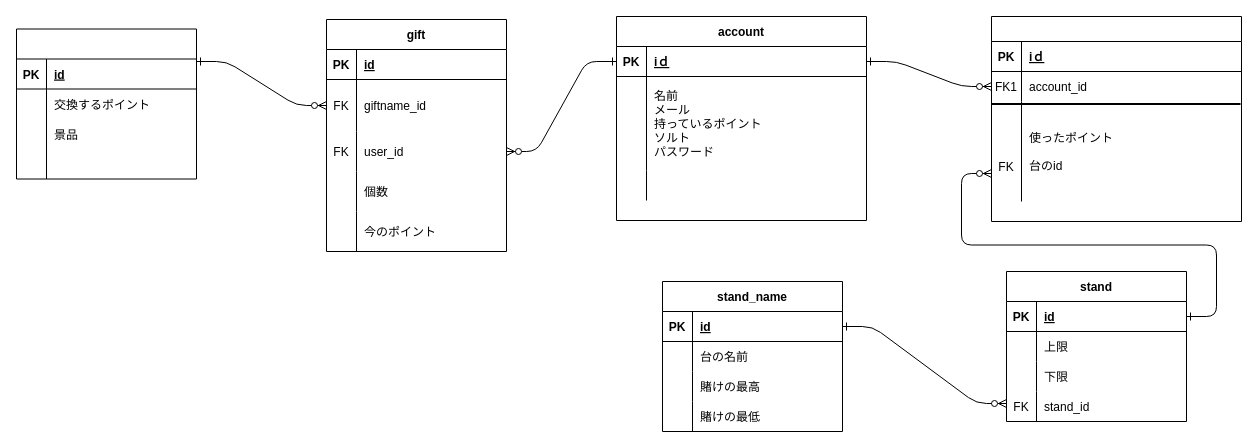
The diagram is 1258 pixels wide and 448 high, and some of its shapes have lost their labels. Each missing label, with the box of its shape:
casino: (990, 16, 1242, 222)
gift_name: (16, 28, 196, 179)
